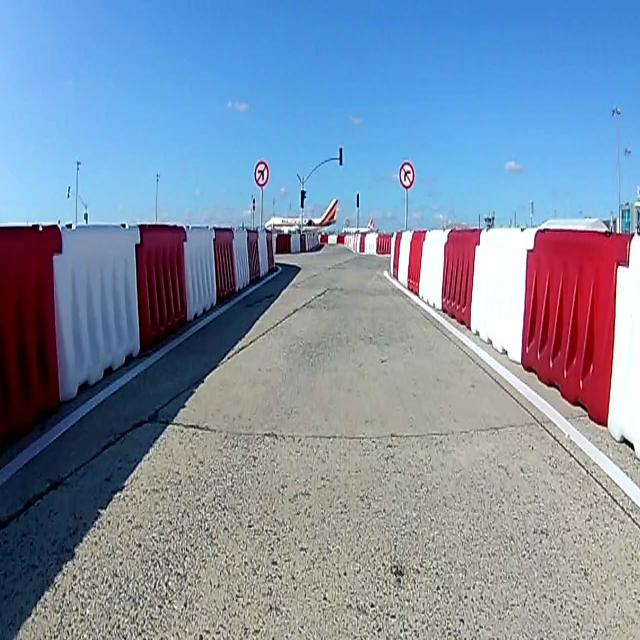sagadonulmez: (398, 161, 416, 190)
soladonulmez: (254, 161, 268, 187)
